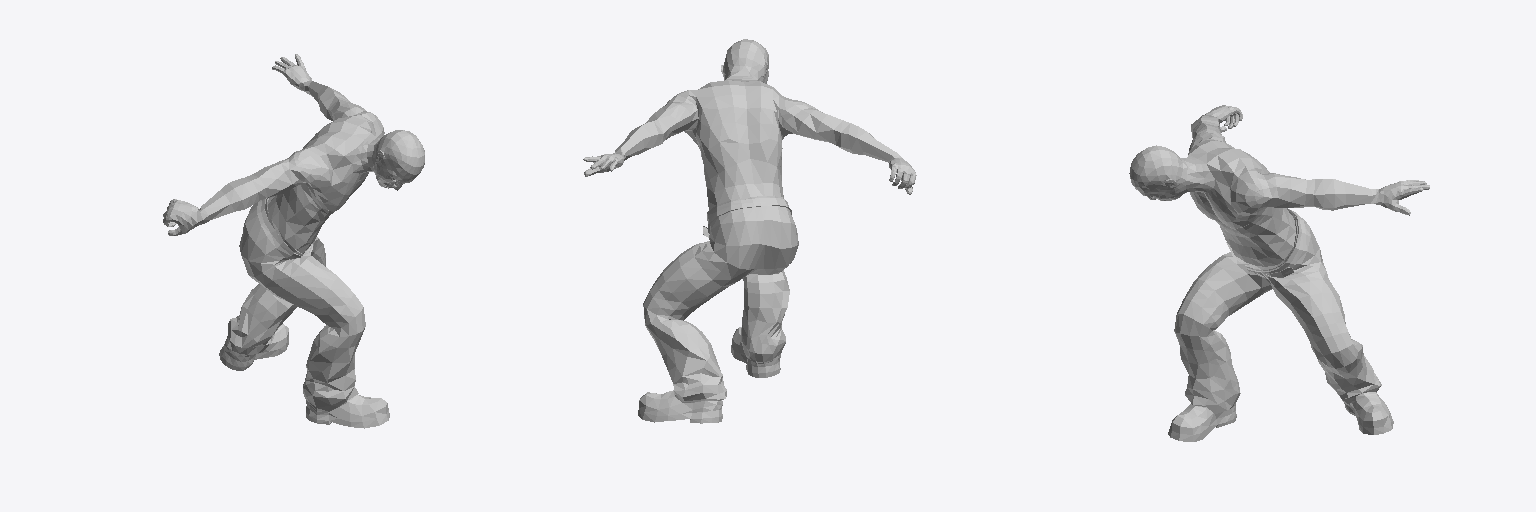
3 renders of one model, left to right at view 1: azimuth 30°, elevation 25°; view 2: azimuth 150°, elevation 25°; view 3: azimuth 270°, elevation 25°, orthographic.
Parts seen in each view (by area): view 1: Thug; view 2: Thug; view 3: Thug.
Part boxes in pixels (bbox=[...]): Thug: bbox=[163, 54, 424, 428]; Thug: bbox=[583, 39, 916, 423]; Thug: bbox=[1129, 105, 1429, 441].
Size of the model in its own units: 111 by 133 by 122.